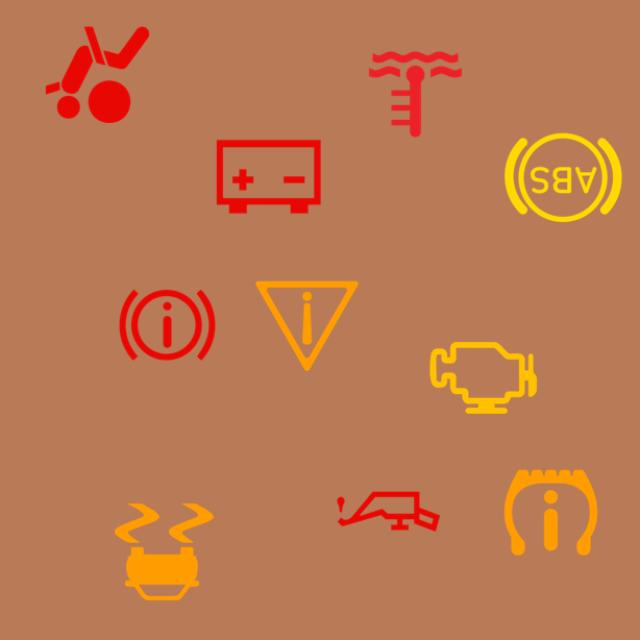Anti Lock Braking System: (500, 114, 628, 242)
Braking System Issue: (104, 261, 232, 388)
Charging System Issue: (205, 112, 332, 240)
Check Engine: (419, 314, 547, 442)
Electronic Stability Problem -ESP-: (100, 488, 228, 616)
Engine Overheating Warning Light: (352, 30, 479, 158)
Low Engine Oil Warning Light: (324, 448, 452, 576)
Low Tire Pressure Warning Light: (487, 448, 615, 576)
Master warning light: (243, 262, 371, 389)
SRS-Airbag: (34, 10, 162, 138)
